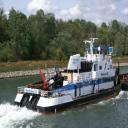tugboat: (13, 32, 125, 117)
